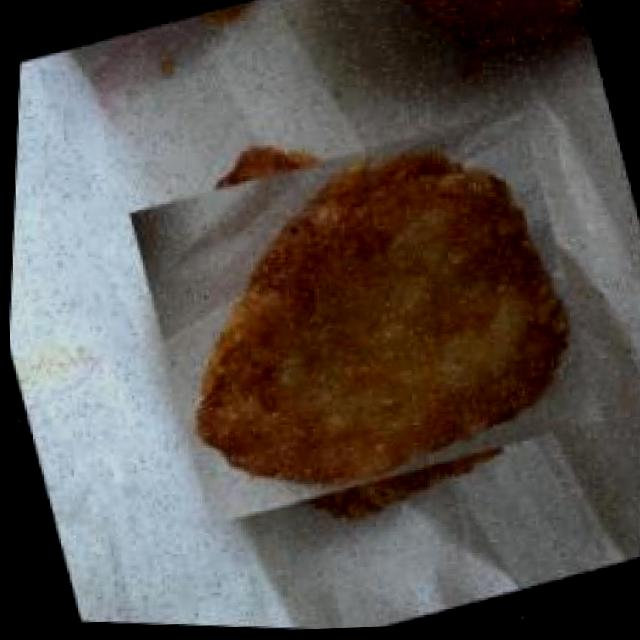triangle_hash_brown: (115, 68, 611, 567)
